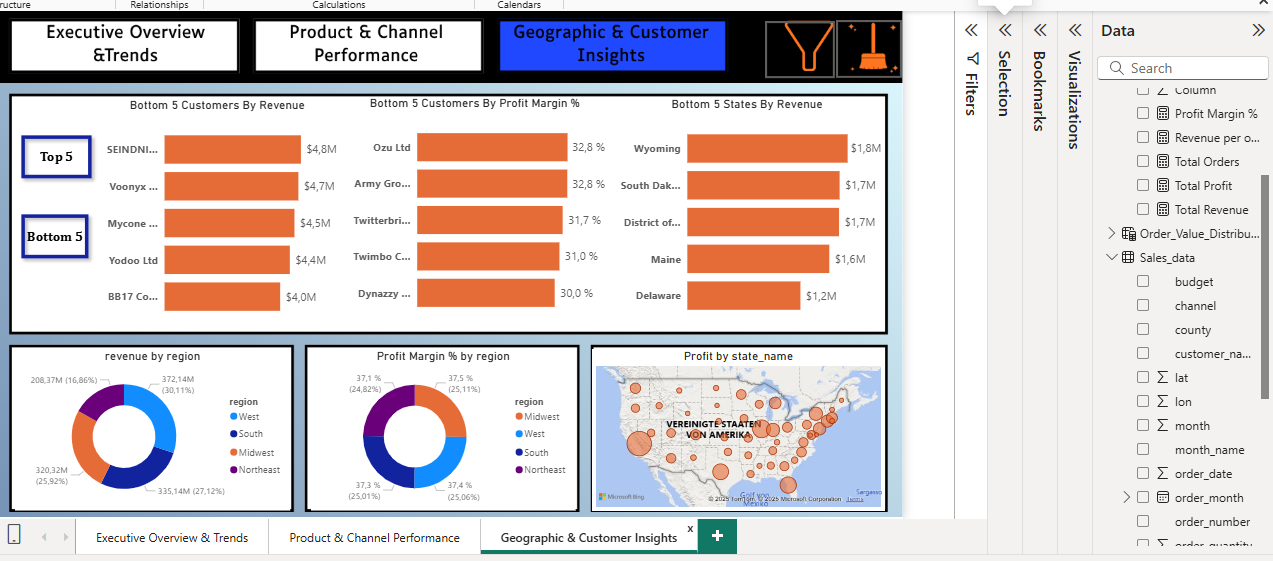

This screenshot's page, from the dashboard's own definition file:
{"tool":"powerbi","page":{"name":"Geographic & Customer Insights","canvas":[1280,720],"ordinal":2},"visuals":[{"type":"barChart","title":"Top 5 Customers By Revenue","fields":{"Category":["Sales_data.customer_names"],"Y":["measures_.Total Revenue"]},"box":[135,122.1,366.1,330.8],"z":0,"group":"g1"},{"type":"donutChart","title":" revenue by region","fields":{"Category":["Sales_data.region"],"Y":["Sum(Sales_data.revenue)"]},"box":[22.3,479.3,390,229.2],"z":0},{"type":"barChart","title":"Top 5 Customers By Profit Margin %","fields":{"Y":["measures_.Profit Margin %"],"Category":["Sales_data.customer_names"]},"box":[500.2,125.5,394.9,326.8],"z":1000,"group":"g1"},{"type":"donutChart","title":" Profit Margin %  by region","fields":{"Category":["Sales_data.region"],"Y":["measures_.Profit Margin %"]},"box":[442,479.3,375.1,229.2],"z":1000},{"type":"barChart","title":"Top 5 States By Revenue","fields":{"Category":["Sales_data.state_name"],"Y":["Sum(Sales_data.revenue)"]},"box":[896.9,124.5,360.5,328.4],"z":2000,"group":"g1"},{"type":"map","title":"Profit by state_name","fields":{"Category":["Sales_data.state_name"],"Size":["measures_.Total Profit"]},"box":[840.9,479.3,415.3,229.2],"z":2000},{"type":"actionButton","box":[21.8,20.2,317.5,70.6],"z":3000},{"type":"actionButton","box":[364.5,20.2,317.5,70.6],"z":4000},{"type":"actionButton","box":[1186.3,12.8,93.5,82.2],"z":5000},{"type":"actionButton","box":[1086.2,13.5,99.2,81.1],"z":6000},{"type":"actionButton","title":"Bottom 5 Button","box":[22.3,279.8,113.1,80.4],"z":7000},{"type":"actionButton","title":"Top 5 Button","box":[22.3,166.7,117.6,78.9],"z":8000},{"type":"group","id":"g1","title":"Top 5 Popup","box":[135,122.1,1122.8,331.1],"z":10000}]}

Visuals, with their boxes on the page's 1280x720 design canvas (x1, y1, x2, y2). These are canvas units, not pixel positions in the 1273x561 screenshot, which may show the page scaled, cropped or inside an application window:
"Top 5 Customers By Revenue" barChart: select_region(135, 122, 501, 453)
" revenue by region" donutChart: select_region(22, 479, 412, 708)
"Top 5 Customers By Profit Margin %" barChart: select_region(500, 126, 895, 452)
" Profit Margin %  by region" donutChart: select_region(442, 479, 817, 708)
"Top 5 States By Revenue" barChart: select_region(897, 124, 1257, 453)
"Profit by state_name" map: select_region(841, 479, 1256, 708)
actionButton: select_region(22, 20, 339, 91)
actionButton: select_region(364, 20, 682, 91)
actionButton: select_region(1186, 13, 1280, 95)
actionButton: select_region(1086, 14, 1185, 95)
"Bottom 5 Button" actionButton: select_region(22, 280, 135, 360)
"Top 5 Button" actionButton: select_region(22, 167, 140, 246)
"Top 5 Popup" group: select_region(135, 122, 1258, 453)
